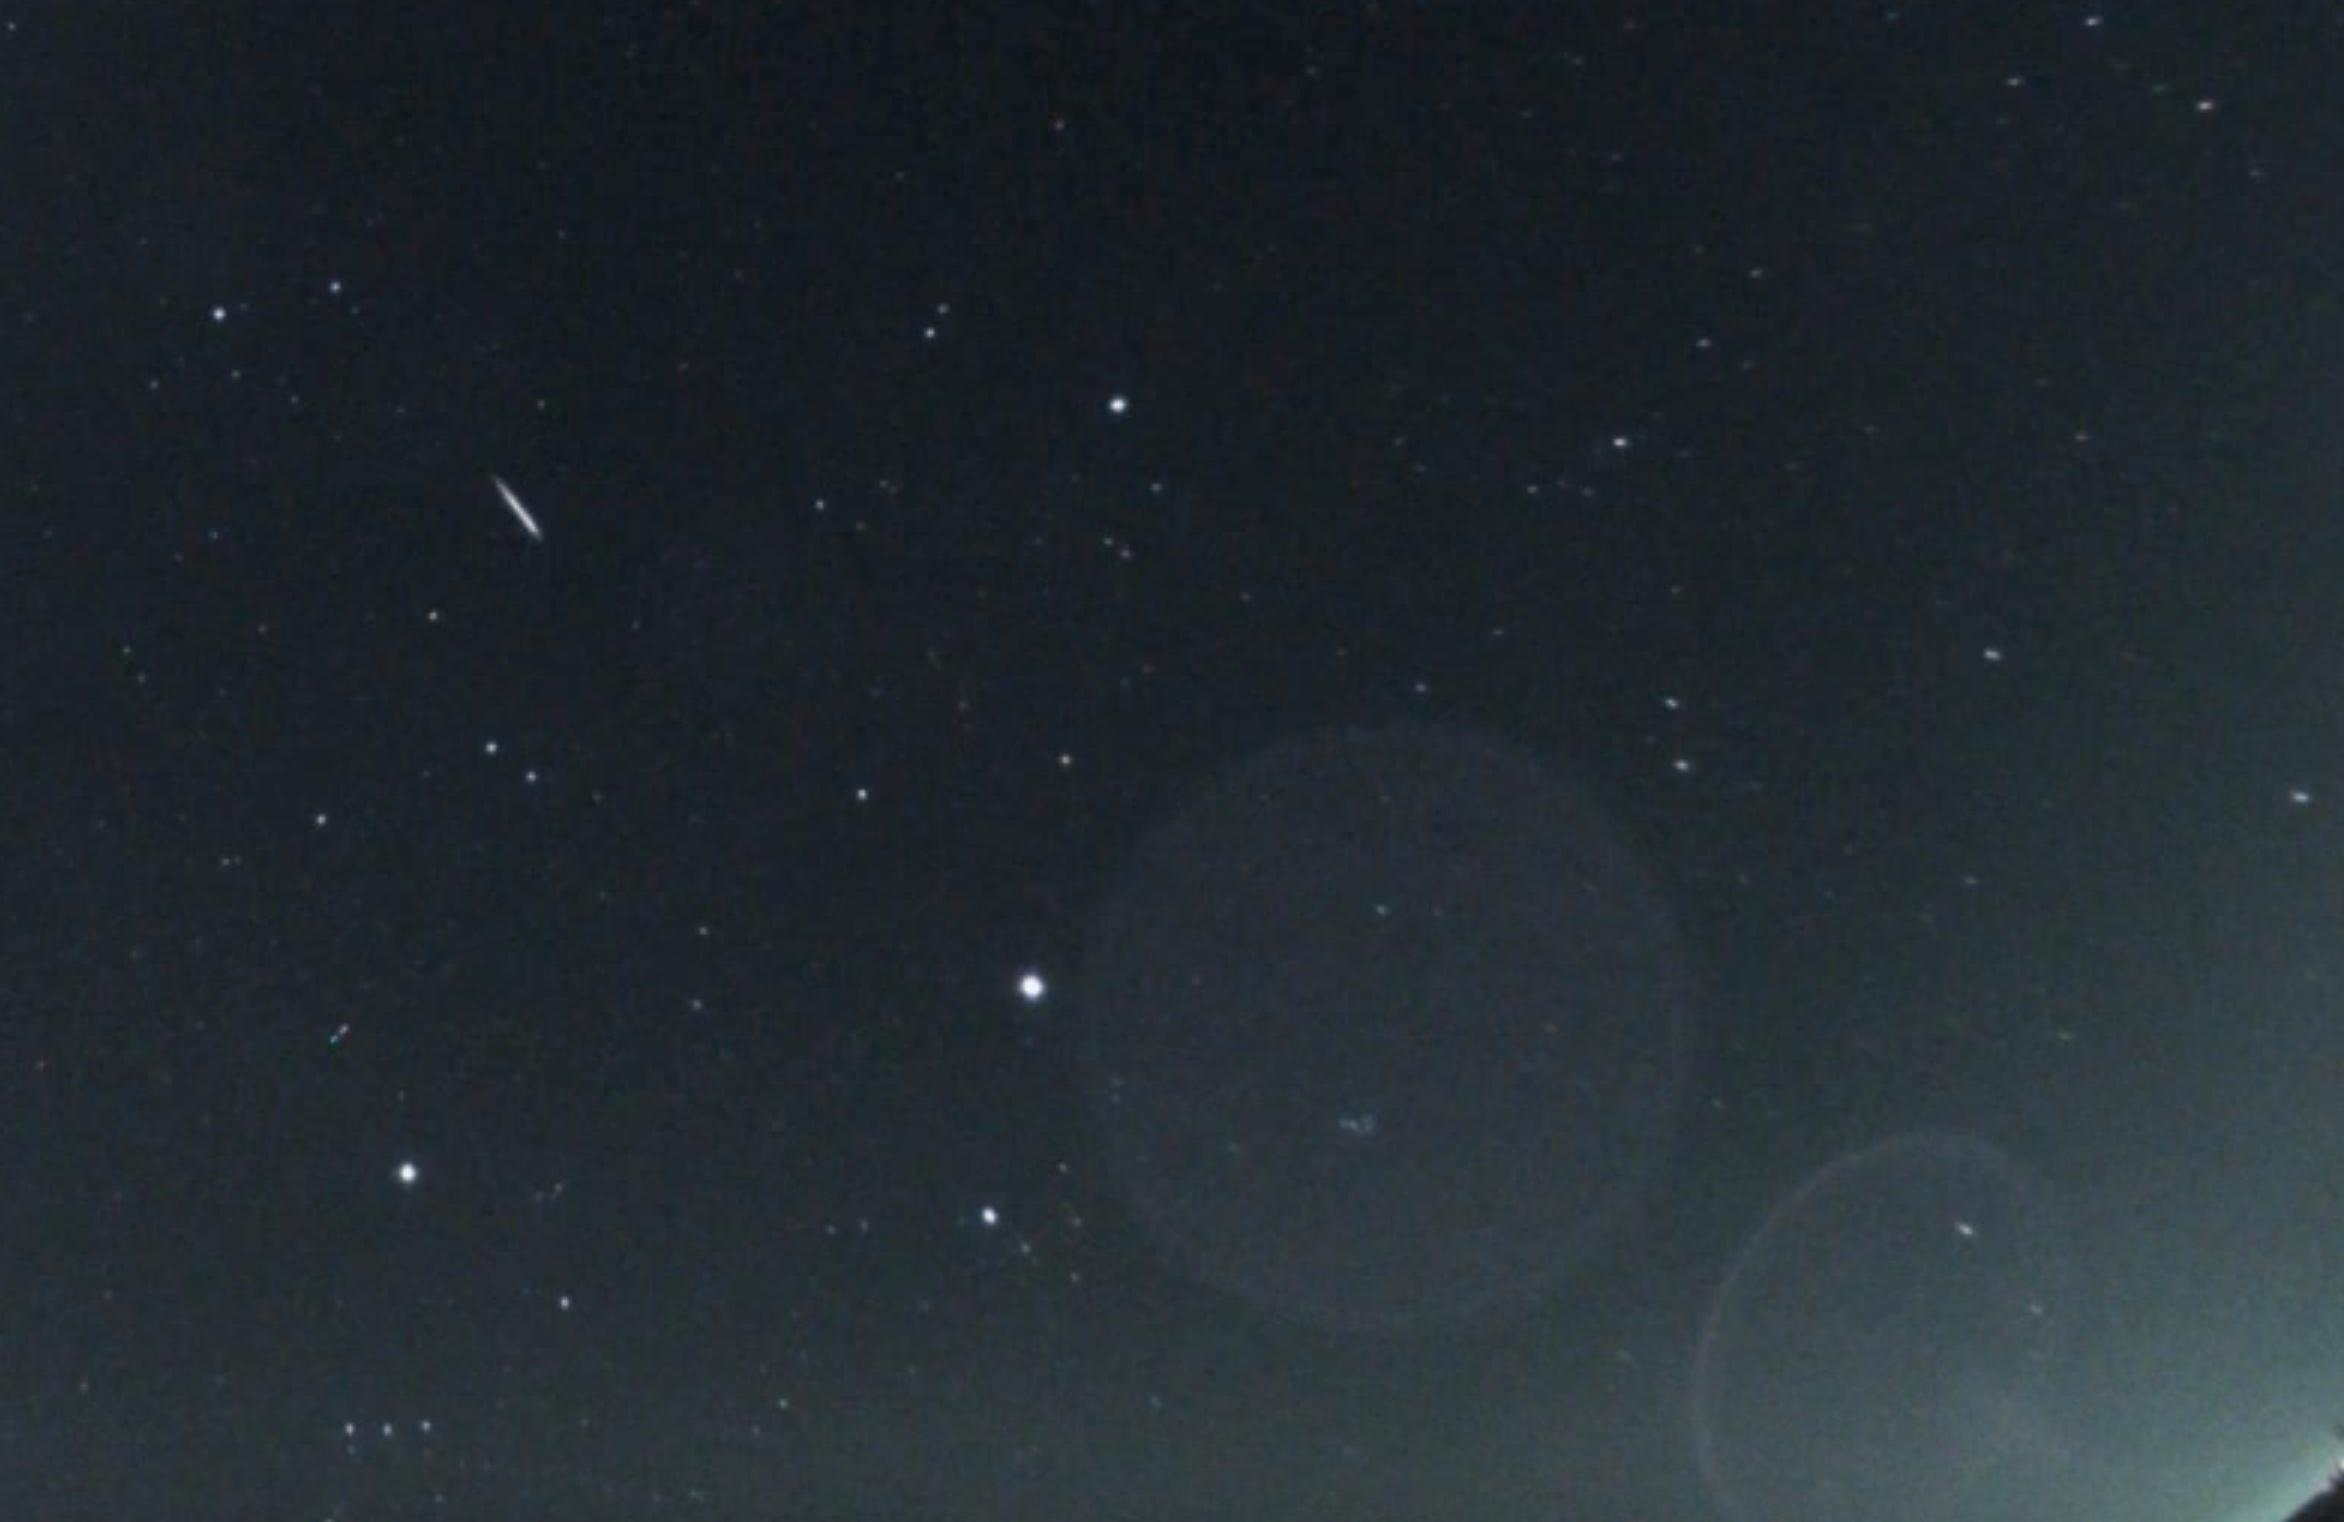Plane: (325, 1011, 366, 1062)
meteorite: (456, 442, 571, 571)
